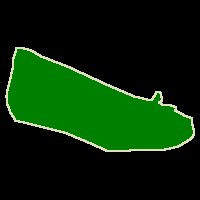shoe: (6, 48, 194, 151)
